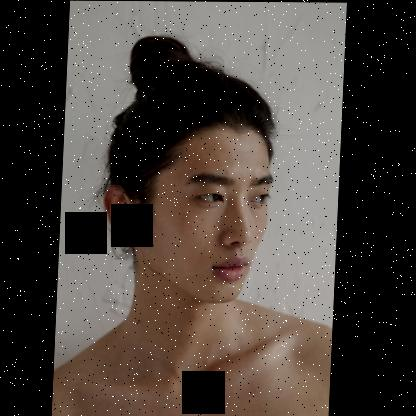Male: (104, 129, 277, 304)
